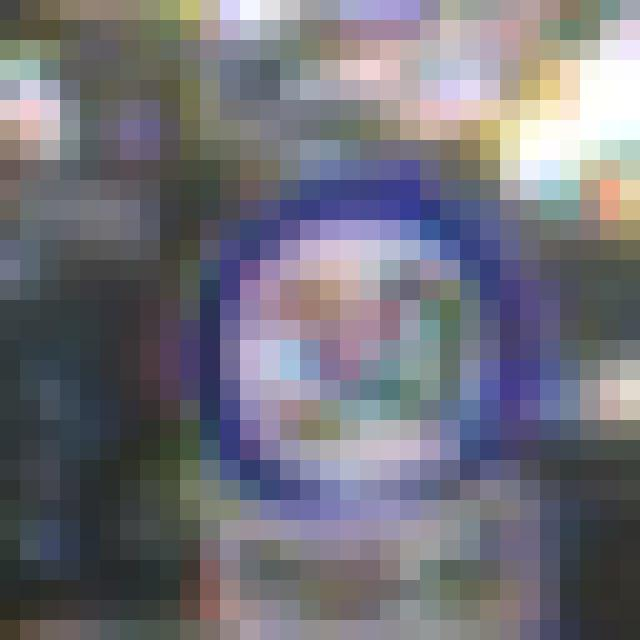SPEED LIMIT 30: (185, 177, 540, 526)
